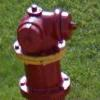Hydrant: (10, 0, 84, 100)
